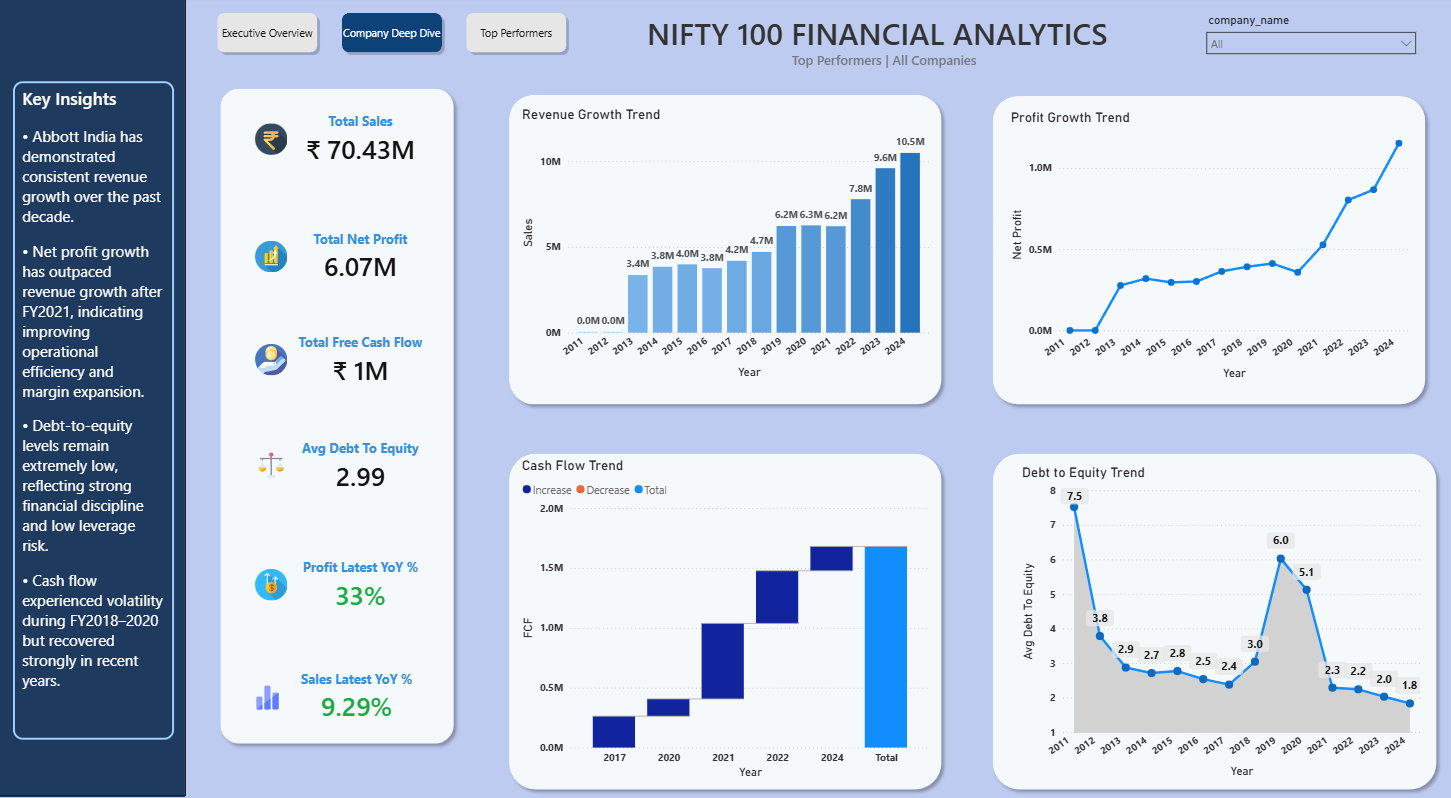

The dashboard page shown, as its layout file describes it:
{"tool":"powerbi","page":{"name":"Company Deep Dive","canvas":[1800,1000],"ordinal":1},"visuals":[{"type":"slicer","fields":{"Values":["dim_company.company_name"]},"box":[1485,17.6,279.8,60.7],"z":0},{"type":"shape","box":[265.9,107.4,306.8,828.2],"z":1000},{"type":"shape","box":[623.7,558.1,552.9,433.7],"z":2000},{"type":"shape","box":[623.7,114,552.9,400.8],"z":3000},{"type":"shape","box":[1221.5,558.1,566.7,433.7],"z":4000},{"type":"shape","box":[1221.5,115.8,552.9,399.1],"z":5000},{"type":"columnChart","title":"Revenue Growth Trend","fields":{"Category":["dim_year.fiscal_year"],"Y":["KPI_measures.total_sales"]},"box":[642.7,138.2,514.9,342.1],"z":6000},{"type":"lineChart","title":"Profit Growth Trend","fields":{"Category":["dim_year.fiscal_year"],"Y":["KPI_measures.total_net_profit"]},"box":[1247.4,139.9,502.8,340.4],"z":7000},{"type":"waterfallChart","title":"Cash Flow Trend","fields":{"Category":["dim_year.fiscal_year"],"Y":["KPI_measures.total_free_cash_flow"]},"box":[642.7,571.9,514.9,402.6],"z":8000},{"type":"areaChart","title":"Debt to Equity Trend","fields":{"Category":["dim_year.fiscal_year"],"Y":["KPI_measures.avg_debt_to_equity"]},"box":[1261.2,580.5,502.8,393.9],"z":9000},{"type":"cardVisual","title":"Total Sales","fields":{"Data":["KPI_measures.total_sales"]},"box":[289.7,131.2,267.6,93.7],"z":10000},{"type":"cardVisual","fields":{"Data":["KPI_measures.total_net_profit"]},"box":[289.7,276.1,267.6,93.7],"z":11000},{"type":"cardVisual","fields":{"Data":["KPI_measures.total_free_cash_flow"]},"box":[289.7,403.9,267.6,95.4],"z":12000},{"type":"cardVisual","fields":{"Data":["KPI_measures.avg_debt_to_equity"]},"box":[289.7,519.8,267.6,124.4],"z":13000},{"type":"cardVisual","fields":{"Data":["KPI_measures.Profit YoY %"]},"box":[289.7,683.4,267.6,92],"z":14000},{"type":"cardVisual","fields":{"Data":["KPI_measures.Sales YoY %"]},"box":[284.6,811.2,267.6,110.8],"z":15000},{"type":"textbox","box":[0,0,231.5,991.7],"z":16000},{"type":"textbox","title":"  Key Insights","box":[18.7,107.4,199.4,814.6],"z":17000},{"type":"pageNavigator","box":[265.9,17,443.1,59.6],"z":18000},{"type":"textbox","box":[797.6,17,594.8,90.3],"z":19000},{"type":"cardVisual","fields":{"Data":["KPI_measures.subtitle2"]},"box":[770.3,30.7,652.7,95.4],"z":20000}]}

Visuals, with their boxes in screenshot pixels (x1, y1, x2, y2), scaled from the page's 1800x1000 canvas onto the 1451x798 screenshot:
slicer - dim_company.company_name: x1=1197, y1=14, x2=1423, y2=62
shape: x1=214, y1=86, x2=462, y2=747
shape: x1=503, y1=445, x2=948, y2=791
shape: x1=503, y1=91, x2=948, y2=411
shape: x1=985, y1=445, x2=1441, y2=791
shape: x1=985, y1=92, x2=1430, y2=411
"Revenue Growth Trend" columnChart: x1=518, y1=110, x2=933, y2=383
"Profit Growth Trend" lineChart: x1=1006, y1=112, x2=1411, y2=383
"Cash Flow Trend" waterfallChart: x1=518, y1=456, x2=933, y2=778
"Debt to Equity Trend" areaChart: x1=1017, y1=463, x2=1422, y2=778
"Total Sales" cardVisual: x1=234, y1=105, x2=449, y2=179
cardVisual - KPI_measures.total_net_profit: x1=234, y1=220, x2=449, y2=295
cardVisual - KPI_measures.total_free_cash_flow: x1=234, y1=322, x2=449, y2=398
cardVisual - KPI_measures.avg_debt_to_equity: x1=234, y1=415, x2=449, y2=514
cardVisual - KPI_measures.Profit YoY %: x1=234, y1=545, x2=449, y2=619
cardVisual - KPI_measures.Sales YoY %: x1=229, y1=647, x2=445, y2=736
textbox: x1=0, y1=0, x2=187, y2=791
"  Key Insights" textbox: x1=15, y1=86, x2=176, y2=736
pageNavigator: x1=214, y1=14, x2=572, y2=61
textbox: x1=643, y1=14, x2=1122, y2=86
cardVisual - KPI_measures.subtitle2: x1=621, y1=24, x2=1147, y2=101
